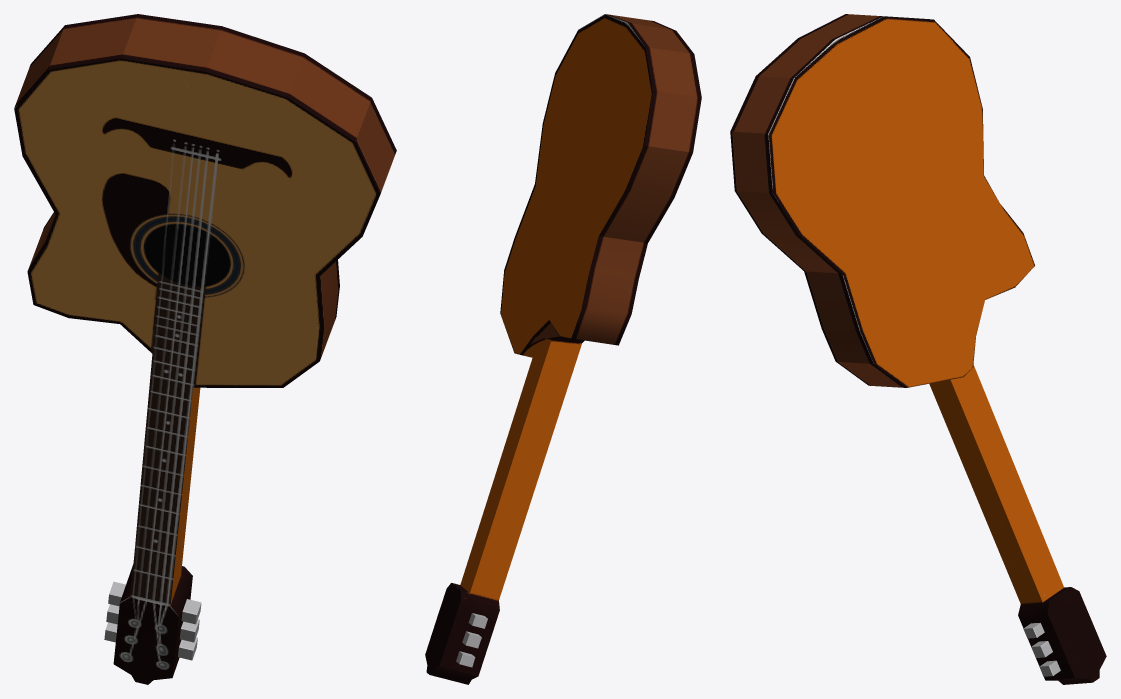
File: Guitarra3_000022.obj
3 views of the same model, side by side, from view 1: azimuth 30°, elevation 25°; view 2: azimuth 150°, elevation 25°; view 3: azimuth 270°, elevation 25° (orthographic). The views are drawn at different scales.
Visible parts, largest first — view 1: Guitarra_2:pPlane4; view 2: Guitarra_2:pPlane4; view 3: Guitarra_2:pPlane4.
Boxes of the visible parts, x1,y1,x2,y2 form: Guitarra_2:pPlane4: [14, 14, 396, 684]; Guitarra_2:pPlane4: [425, 14, 701, 684]; Guitarra_2:pPlane4: [730, 14, 1106, 684].
Size of the model in its own units: 4.53 by 11.88 by 6.53.
